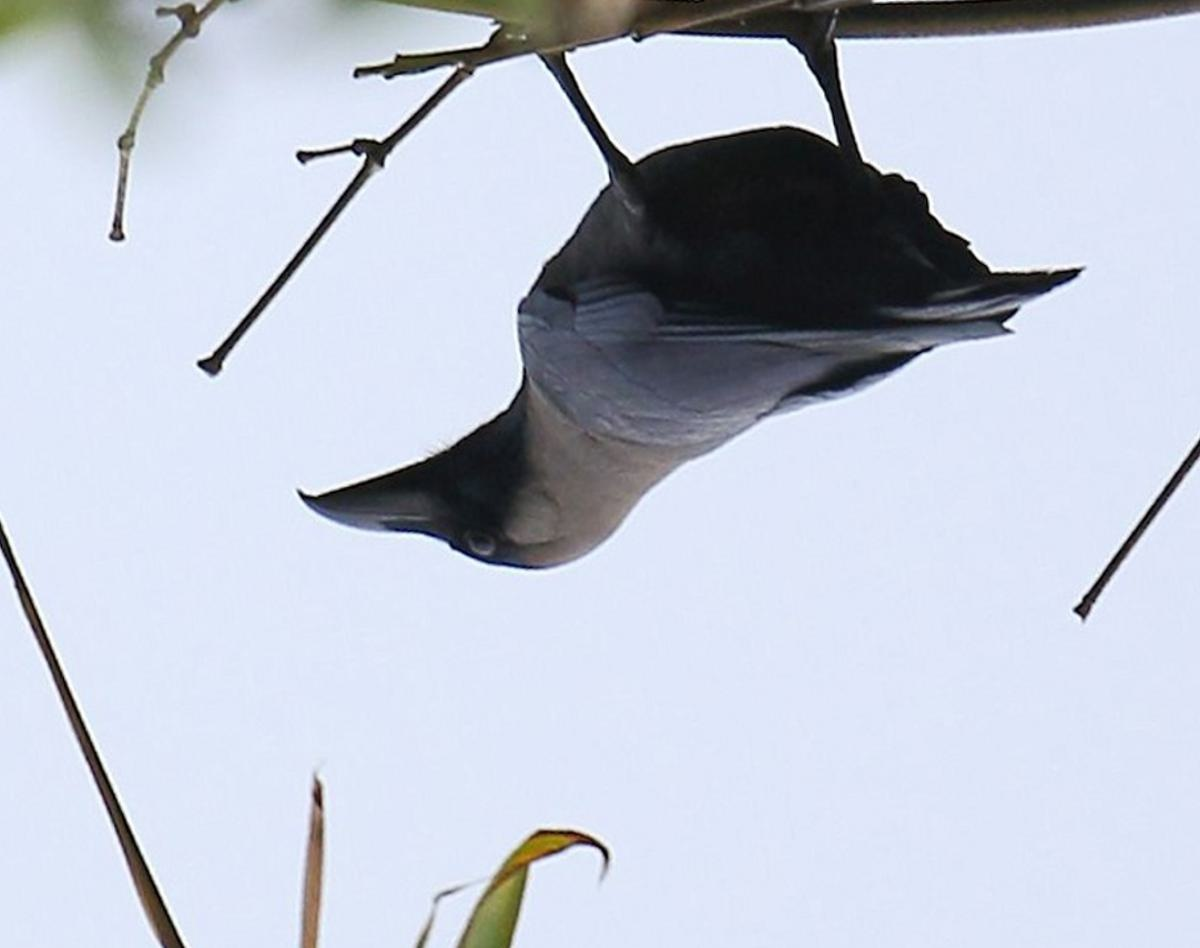crow: (285, 1, 1094, 581)
